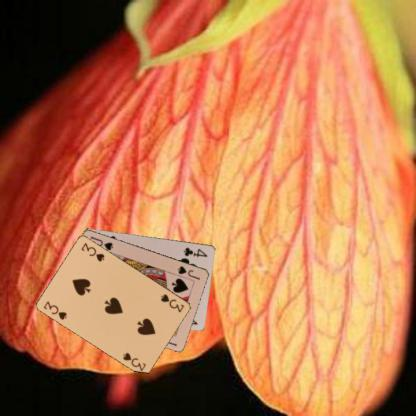3s: (158, 291, 186, 314), (41, 298, 68, 321)
4c: (181, 245, 208, 258)
Js: (175, 263, 201, 282)
